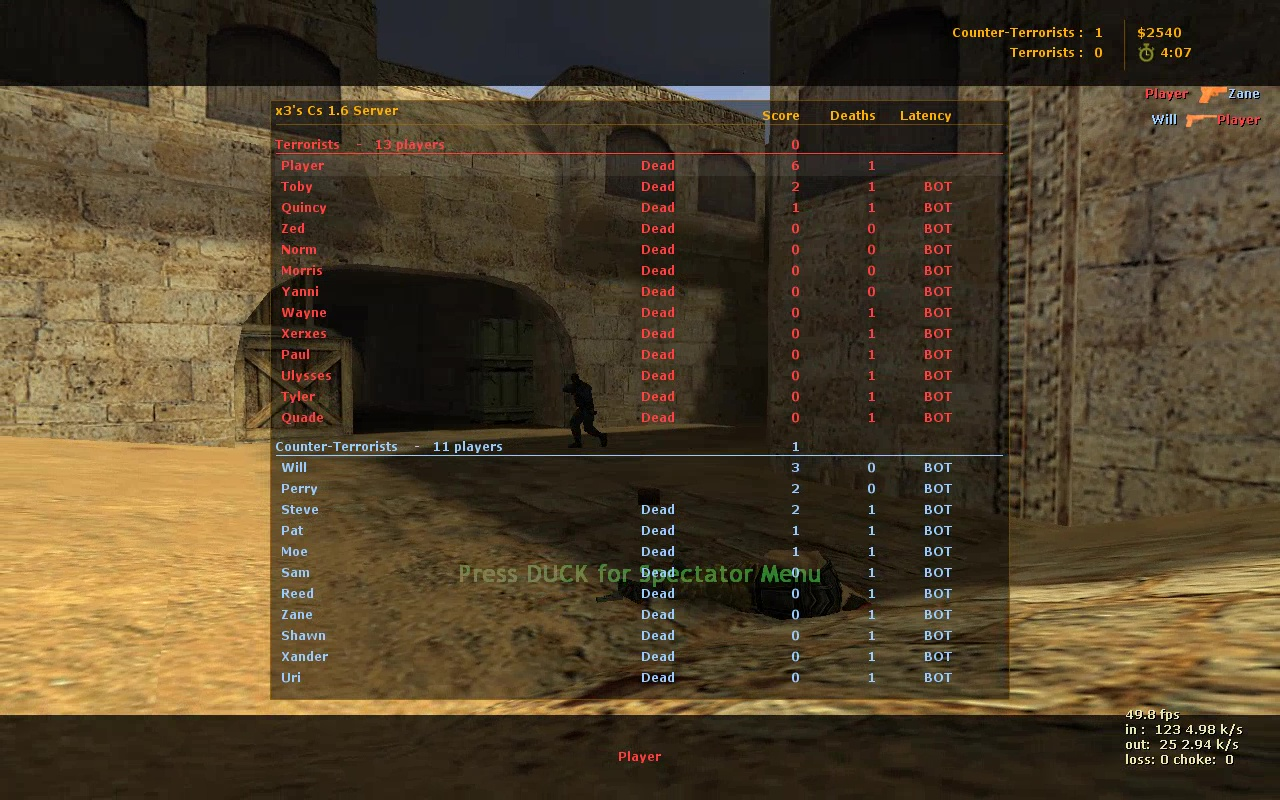ct: (563, 372, 606, 447)
dead: (619, 540, 873, 621)
